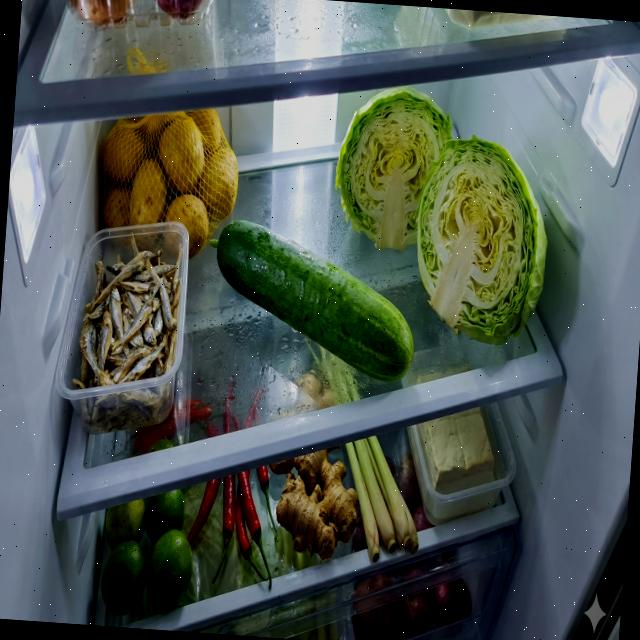anchovies: (68, 230, 184, 436)
cabbage: (408, 130, 554, 348), (330, 82, 456, 256)
chili: (184, 460, 282, 590)
cucumber: (208, 218, 422, 384)
ginger: (262, 440, 362, 562)
lemongrass: (336, 432, 426, 565)
lime: (98, 482, 198, 622)
potato: (96, 101, 243, 262)
tofu: (414, 402, 499, 523)
